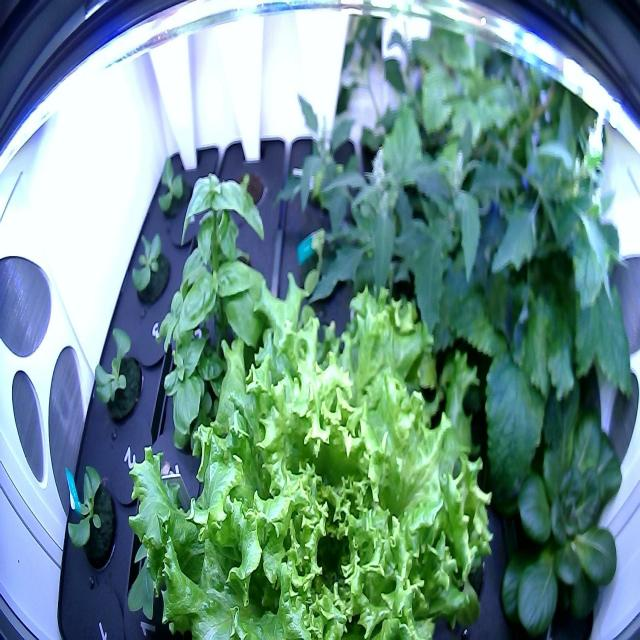young: (487, 379, 632, 637), (62, 453, 124, 590), (84, 319, 151, 436), (286, 222, 348, 314), (126, 222, 176, 313), (151, 148, 194, 226)
